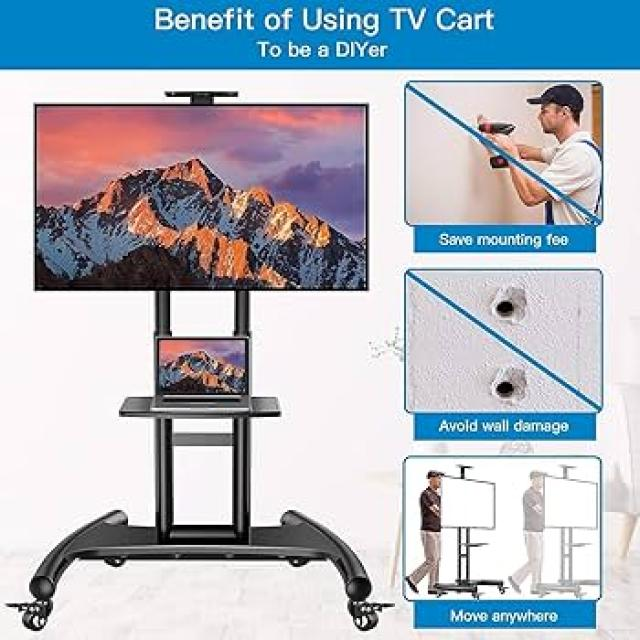electronics: (15, 397, 386, 629), (35, 104, 366, 289), (406, 271, 598, 435), (432, 463, 501, 598), (536, 463, 598, 596), (404, 457, 496, 534), (150, 336, 247, 406), (155, 335, 245, 393), (174, 432, 230, 521), (439, 475, 494, 527), (545, 475, 598, 527), (119, 397, 245, 417), (298, 7, 379, 35), (155, 4, 252, 27), (439, 411, 501, 435), (336, 40, 386, 55), (152, 291, 168, 335), (232, 291, 247, 335), (247, 393, 278, 413), (477, 119, 514, 132), (163, 90, 201, 101), (205, 92, 234, 104), (488, 152, 505, 165), (406, 545, 419, 560), (450, 232, 463, 245), (176, 432, 188, 444), (214, 435, 227, 444), (194, 432, 201, 443), (353, 40, 360, 46), (187, 419, 194, 424), (179, 411, 181, 419), (214, 419, 219, 422), (501, 494, 507, 496), (485, 532, 488, 534), (578, 558, 580, 560)
